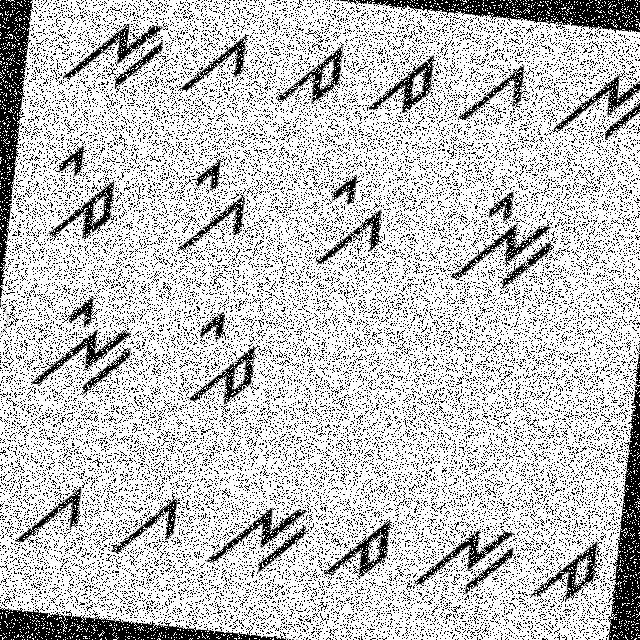ga: (173, 11, 258, 111), (101, 479, 186, 566), (5, 470, 88, 557), (450, 52, 530, 132)
gi: (162, 147, 255, 264), (297, 167, 389, 284)
nga: (42, 1, 169, 110), (400, 498, 523, 607), (202, 486, 316, 592), (538, 48, 639, 153)
ngi: (437, 172, 566, 304), (23, 281, 149, 404)
ta: (272, 22, 354, 128), (523, 523, 615, 614), (357, 36, 442, 123), (316, 502, 395, 588)
ti: (178, 299, 271, 420), (34, 134, 128, 252)
